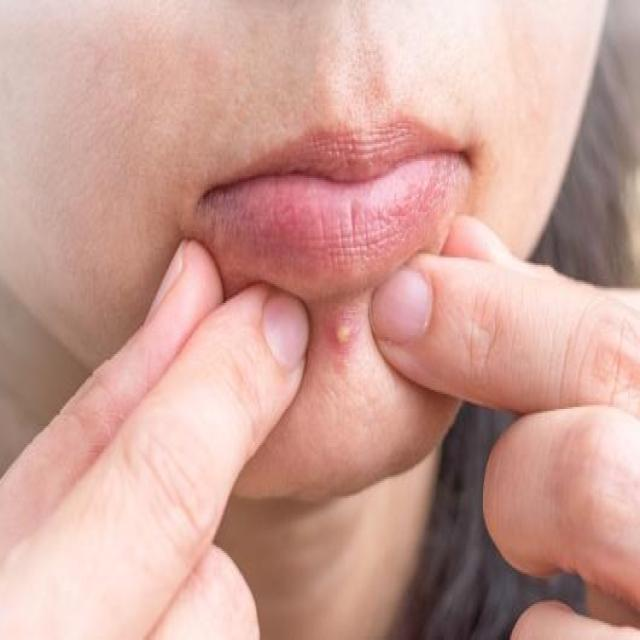pustule: (329, 301, 364, 381)
